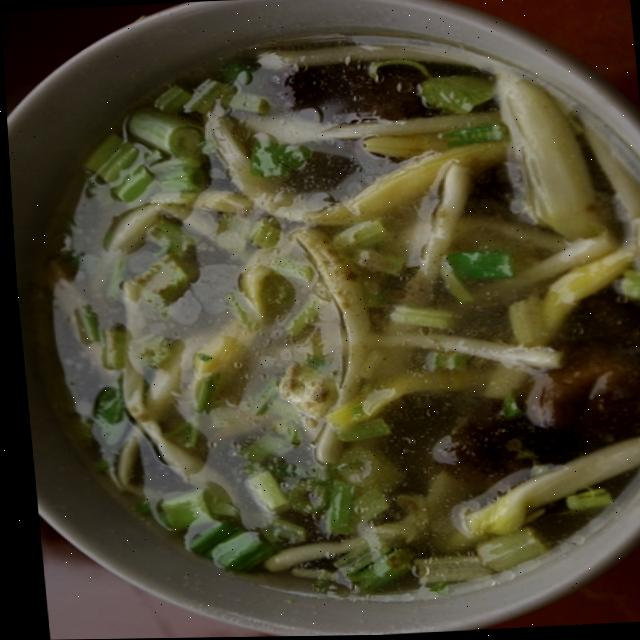面条主食: (7, 8, 640, 630)
